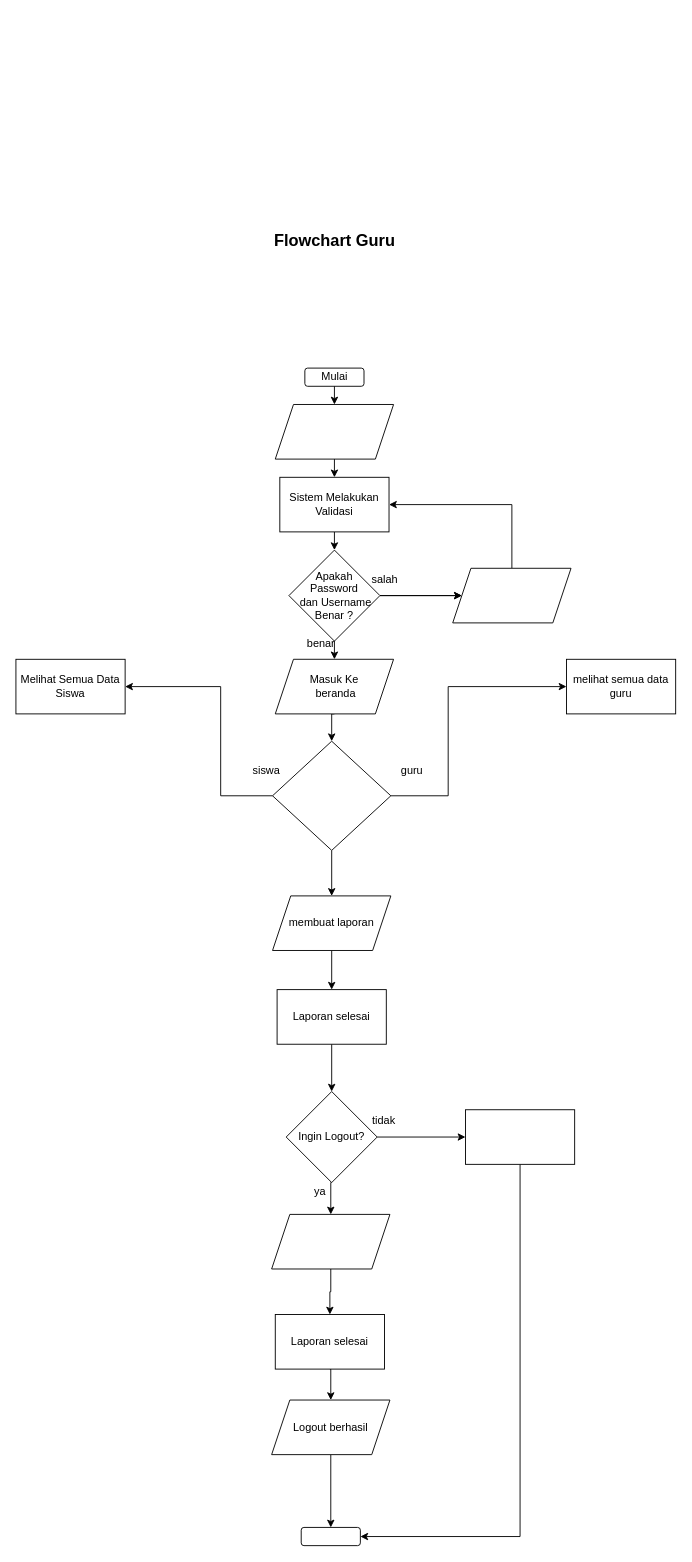
Image size: 692x1562. Some labels were removed from this diagram. Each missing label, with the centre of its shape:
"Ingin Pergi ke data siswa atau ke data guru ?" goes at point (331, 795).
"Input Ulang Username dan Passowrd" goes at point (511, 595).
"input username dan passoword yang sudah terdaftar" goes at point (334, 431).
"Login Tersimpan di perangkat" goes at point (520, 1136).
"Logout akun" goes at point (330, 1241).
"Selesai" goes at point (330, 1536).
